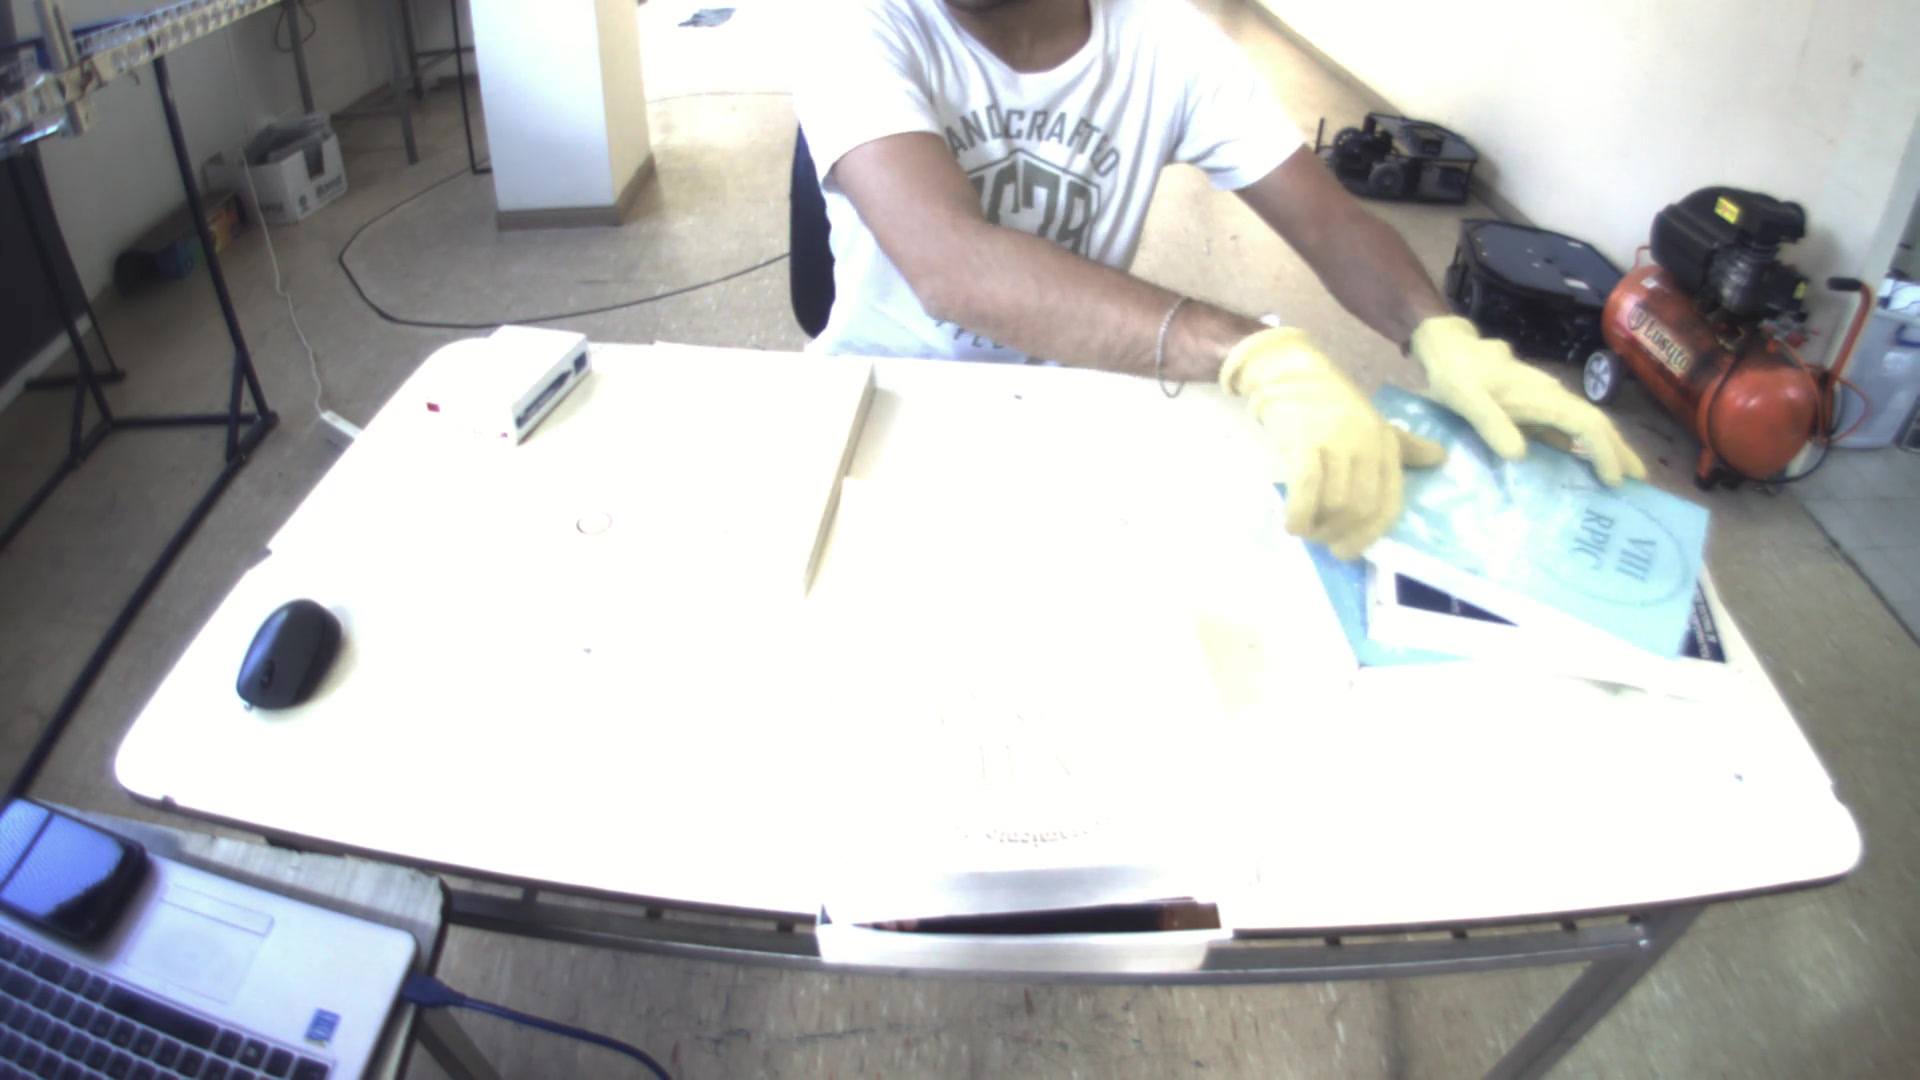hand: (1215, 311, 1429, 567), (1398, 313, 1646, 489)
